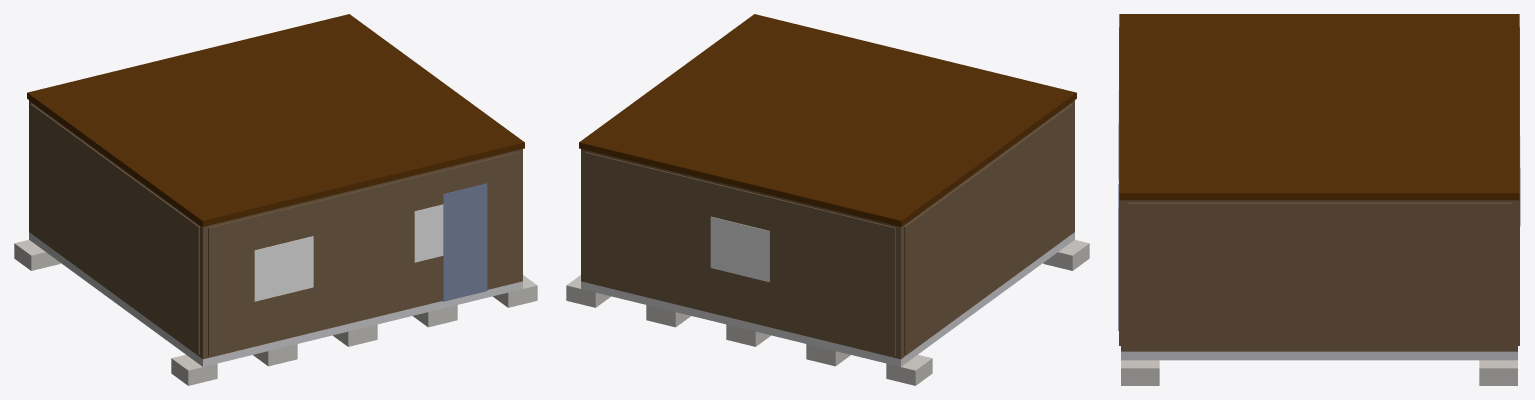
Rendered from Studio-20-Base-WengeWood-LOD2.glb.
The picture shows the model from 3 angles, left to right: view 1: azimuth 30°, elevation 25°; view 2: azimuth 150°, elevation 25°; view 3: azimuth 270°, elevation 25°; orthographic projection. The views are drawn at different scales.
Parts seen in each view (by area): view 1: RoofMain, ExteriorPanelsStandard, EntryDoor, WindowsStandard, FoundationBlocks, ExteriorShell, BaseFrame; view 2: ExteriorPanelsStandard, RoofMain, FoundationBlocks, BaseFrame, ExteriorShell, WindowsStandard; view 3: RoofMain, ExteriorPanelsStandard, ExteriorShell, BaseFrame, FoundationBlocks.
Part boxes in pixels (x1,y1,x2,y2): RoofMain: [27, 14, 524, 226]; ExteriorPanelsStandard: [30, 103, 518, 355]; EntryDoor: [442, 183, 487, 301]; WindowsStandard: [254, 204, 443, 301]; FoundationBlocks: [14, 240, 537, 385]; ExteriorShell: [29, 100, 522, 359]; BaseFrame: [29, 232, 522, 366]; ExteriorPanelsStandard: [585, 103, 1073, 355]; RoofMain: [579, 14, 1076, 226]; FoundationBlocks: [566, 240, 1089, 385]; BaseFrame: [581, 232, 1074, 366]; ExteriorShell: [581, 100, 1074, 359]; WindowsStandard: [710, 216, 769, 281]; RoofMain: [1119, 14, 1519, 200]; ExteriorPanelsStandard: [1119, 27, 1519, 349]; ExteriorShell: [1121, 200, 1517, 351]; BaseFrame: [1121, 351, 1517, 360]; FoundationBlocks: [1121, 360, 1517, 385].
Size of the model in its own units: 7.14 by 3.17 by 6.24.
